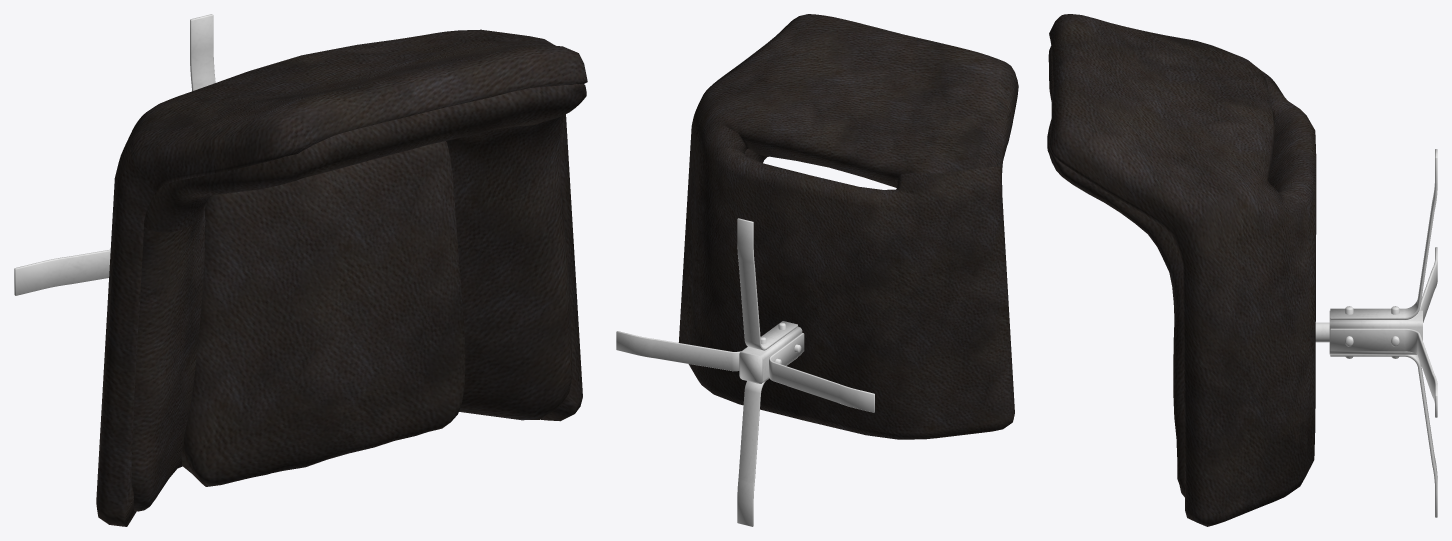
The model's file is armchair2.glb.
3 renders of one model, left to right at view 1: azimuth 30°, elevation 25°; view 2: azimuth 150°, elevation 25°; view 3: azimuth 270°, elevation 25°, orthographic. The views are drawn at different scales.
Parts seen in each view (by area): view 1: skfb_offset; view 2: skfb_offset; view 3: skfb_offset.
Part boxes in pixels (x1,y1,x2,y2): skfb_offset: [14, 14, 587, 526]; skfb_offset: [616, 14, 1018, 526]; skfb_offset: [1047, 14, 1437, 526].
Size of the model in its own units: 348335 by 374773 by 297804.
Materials: 2 (2 with a texture image).
